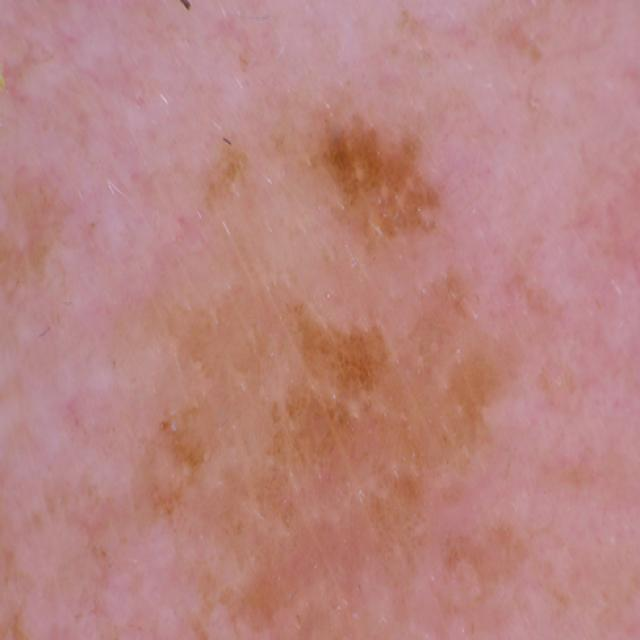Keratosis: (74, 49, 580, 640)
